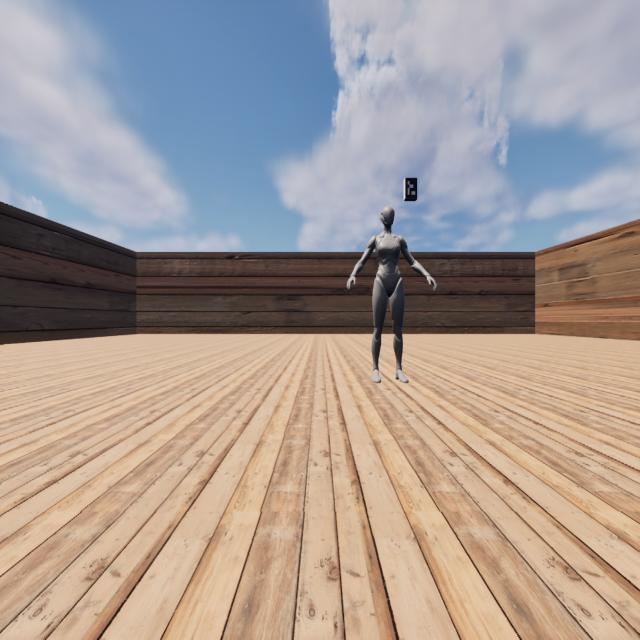aruco: (405, 178, 417, 199)
hip: (373, 277, 404, 290)
